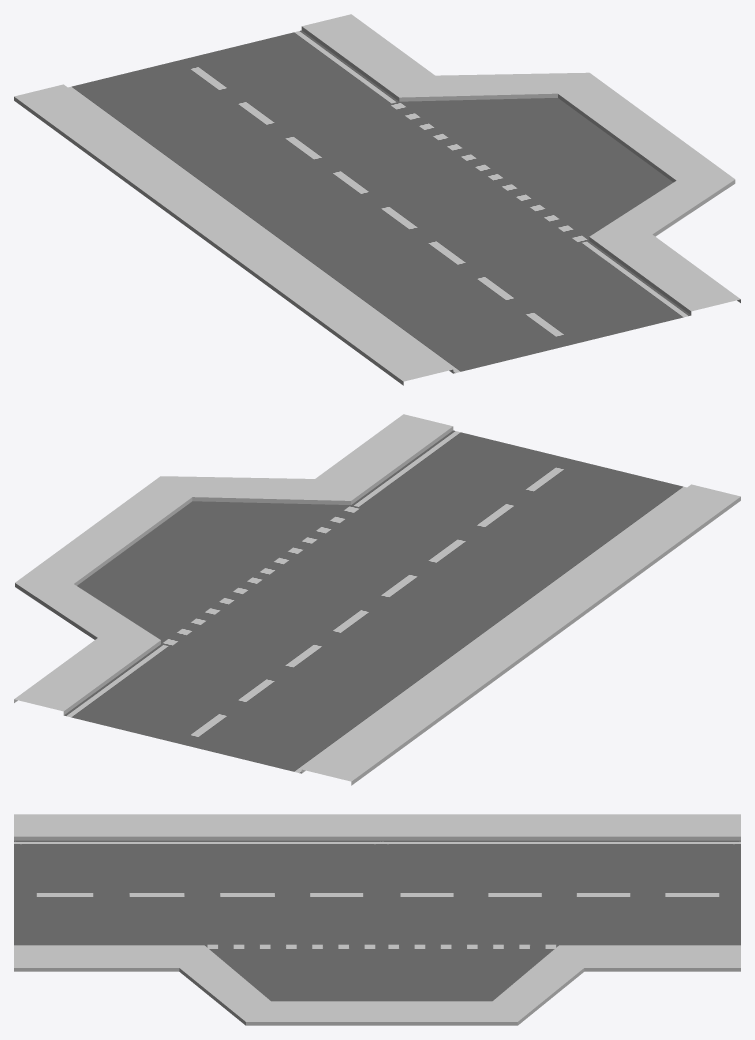
File: Bus Stop1.fbx
The picture shows the model from 3 angles, top to bottom: view 1: azimuth 30°, elevation 25°; view 2: azimuth 150°, elevation 25°; view 3: azimuth 270°, elevation 25°; orthographic projection. The views are drawn at different scales.
Parts seen in each view (by area): view 1: Bus Stop1; view 2: Bus Stop1; view 3: Bus Stop1.
Part boxes in pixels (box(x1,y1,x2,y2)): Bus Stop1: box(14, 14, 740, 385); Bus Stop1: box(14, 414, 740, 785); Bus Stop1: box(14, 814, 740, 1025).
Bounding box in the file's own units: 2298 × 20 × 3400.
